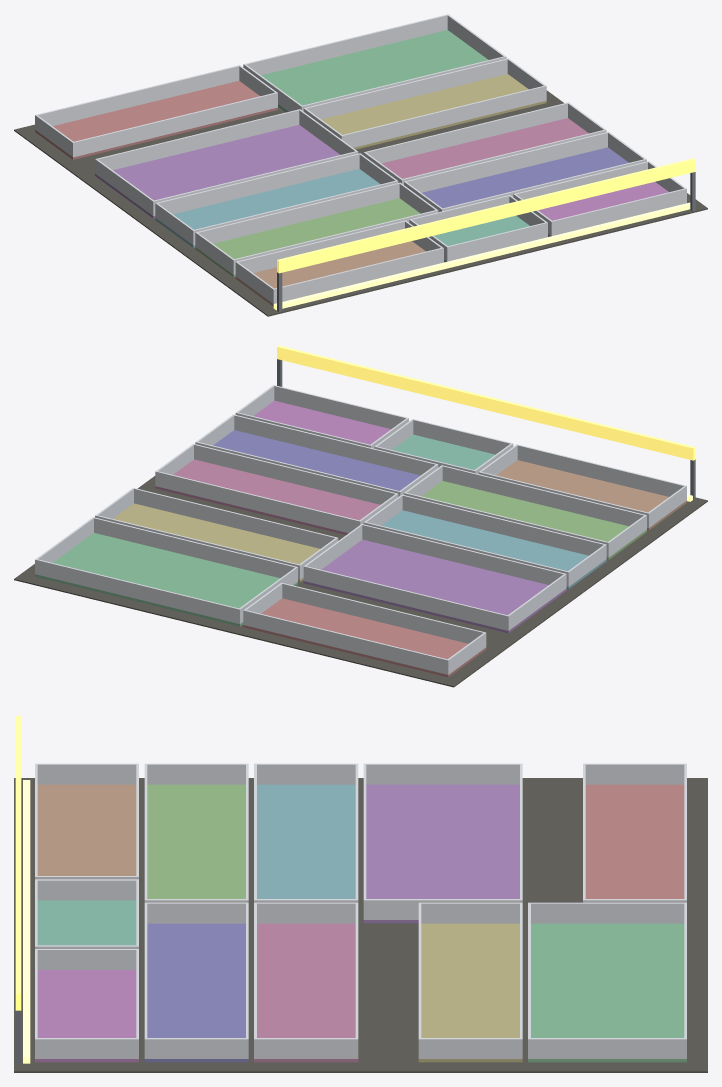
File: hall-geothermal.glb
The picture shows the model from 3 angles, top to bottom: view 1: azimuth 30°, elevation 25°; view 2: azimuth 150°, elevation 25°; view 3: azimuth 270°, elevation 25°; orthographic projection. The views are drawn at different scales.
Visible parts, largest first — view 1: Geothermal Technicians; view 2: Geothermal Technicians; view 3: Geothermal Technicians.
Boxes of the visible parts, x1,y1,x2,y2 form: Geothermal Technicians: [14, 14, 707, 316]; Geothermal Technicians: [14, 345, 707, 687]; Geothermal Technicians: [14, 716, 707, 1072].
Size of the model in its own units: 38 by 4.3 by 38.
